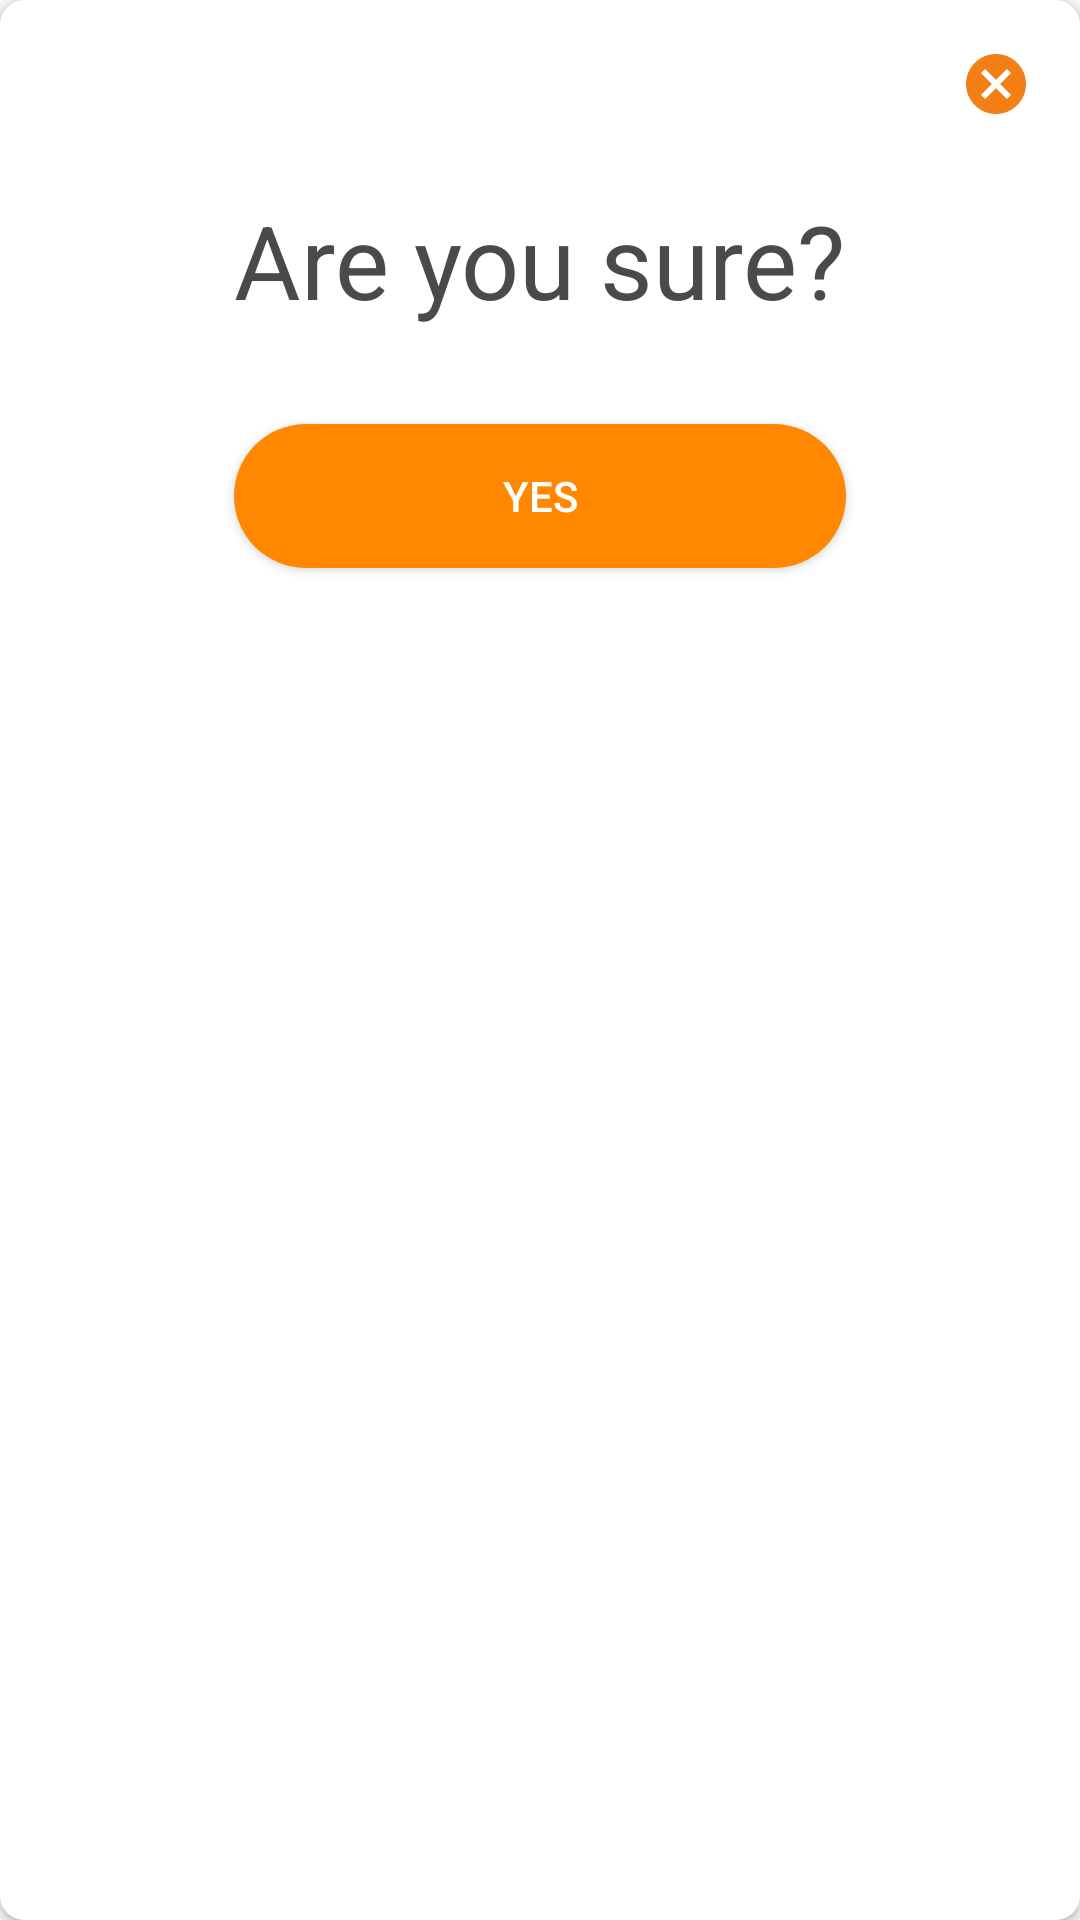

Locate icon controls on the screen. Image size 1080*1920, boxes as [left=x1, top=y1, right=x2, bottom=y2].
cancel: [left=966, top=54, right=1026, bottom=114]
